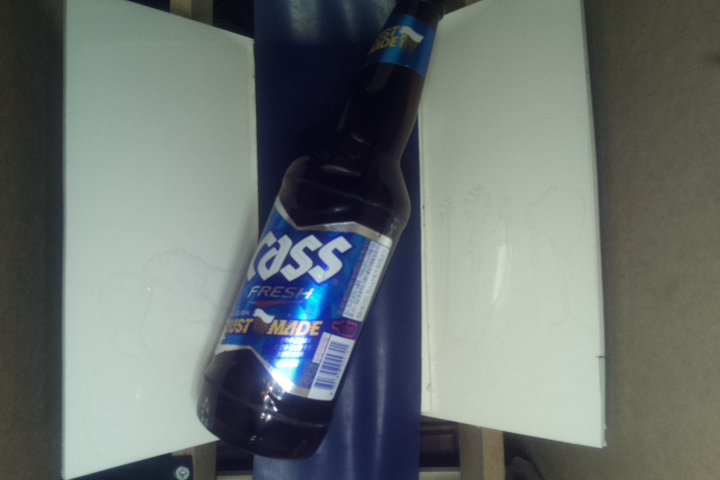makju: (187, 1, 446, 457)
